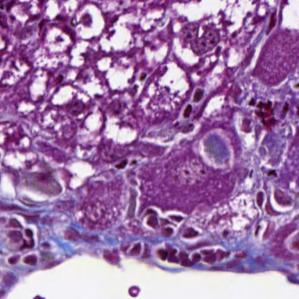inflammation: (73, 1, 107, 42), (181, 77, 209, 123)
